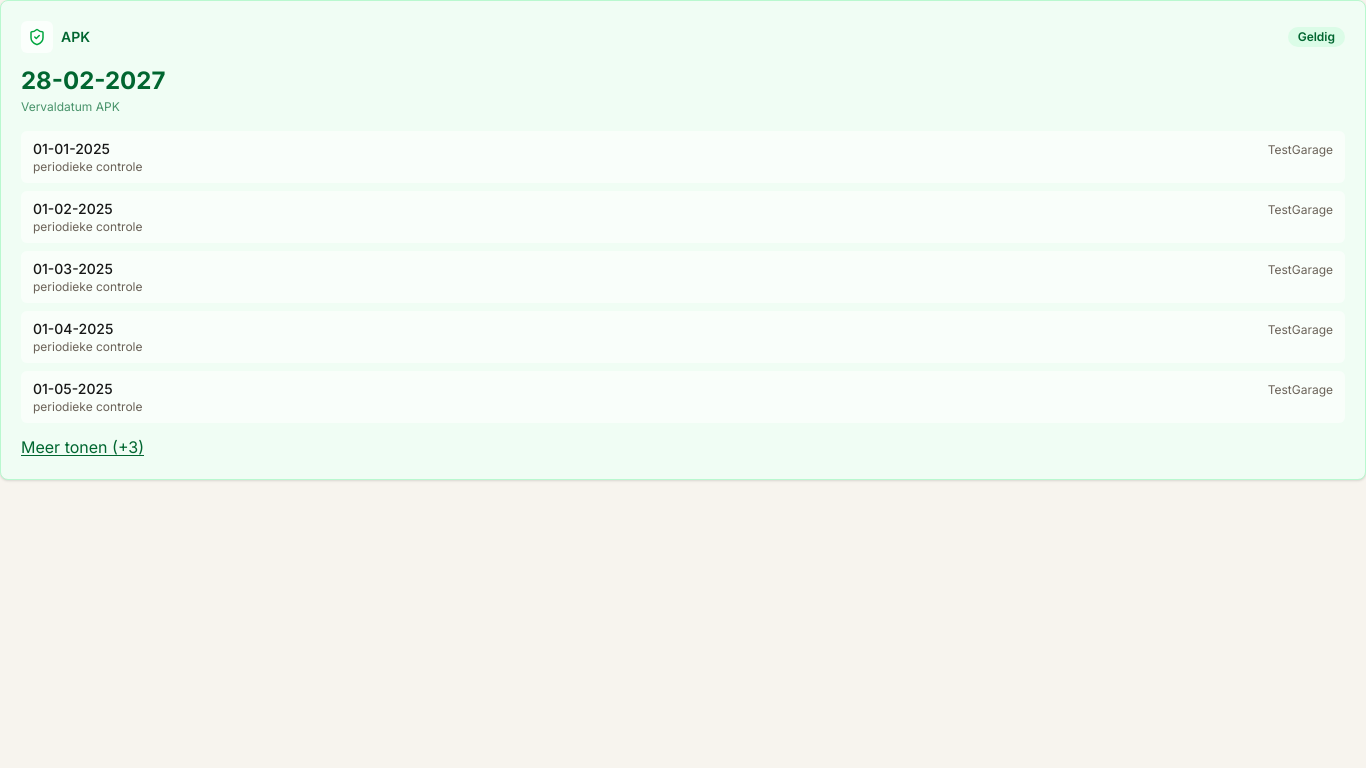
ApkTimelineCard › reveals all inspections after show-more click
Click the button "Meer tonen (+3)" at (82,447), box [21, 435, 144, 459]
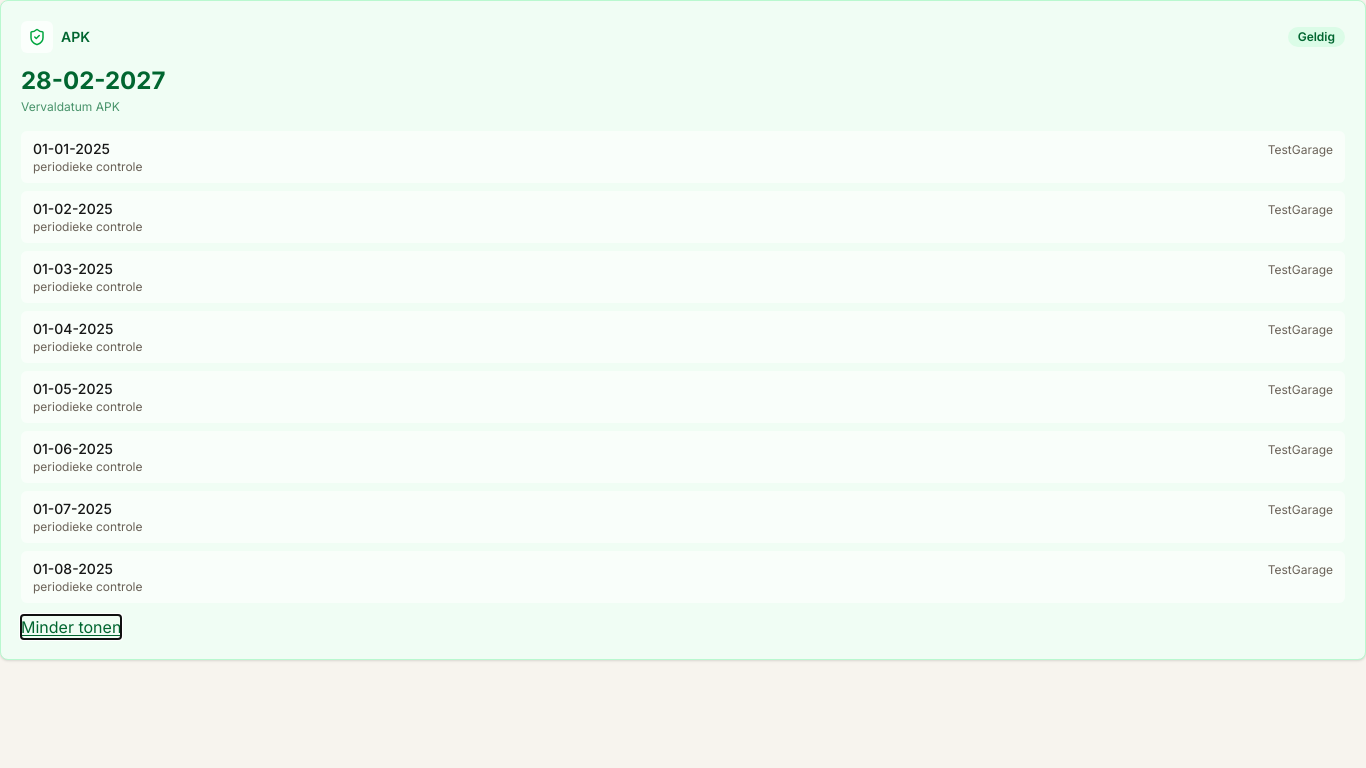
Now the text "periodieke controle" is shown 8 times
